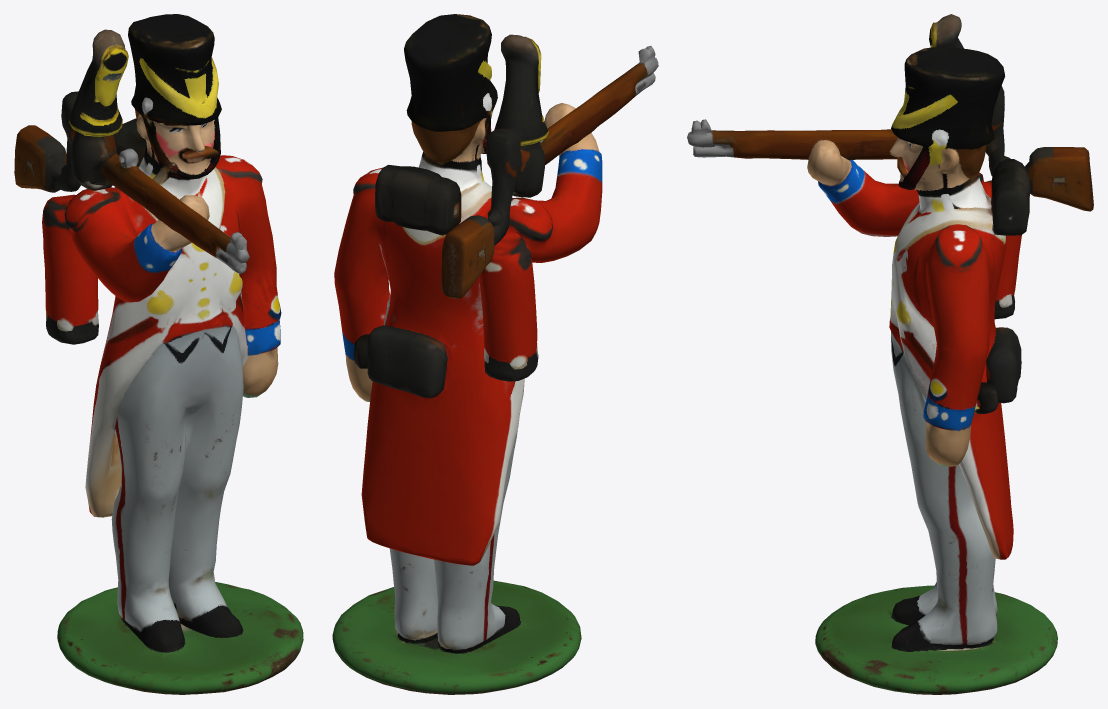
Rendered from inf_aim.glb.
The picture shows the model from 3 angles, left to right: view 1: azimuth 30°, elevation 25°; view 2: azimuth 150°, elevation 25°; view 3: azimuth 270°, elevation 25°; orthographic projection. The views are drawn at different scales.
Visible parts, largest first — view 1: world; view 2: world; view 3: world.
Part boxes in pixels (<box>): world: <box>14,14,303,694</box>; world: <box>332,14,658,694</box>; world: <box>687,14,1093,694</box>.
Size of the model in its own units: 0.3567 by 1 by 0.6147.
1 material, 1 textured.
